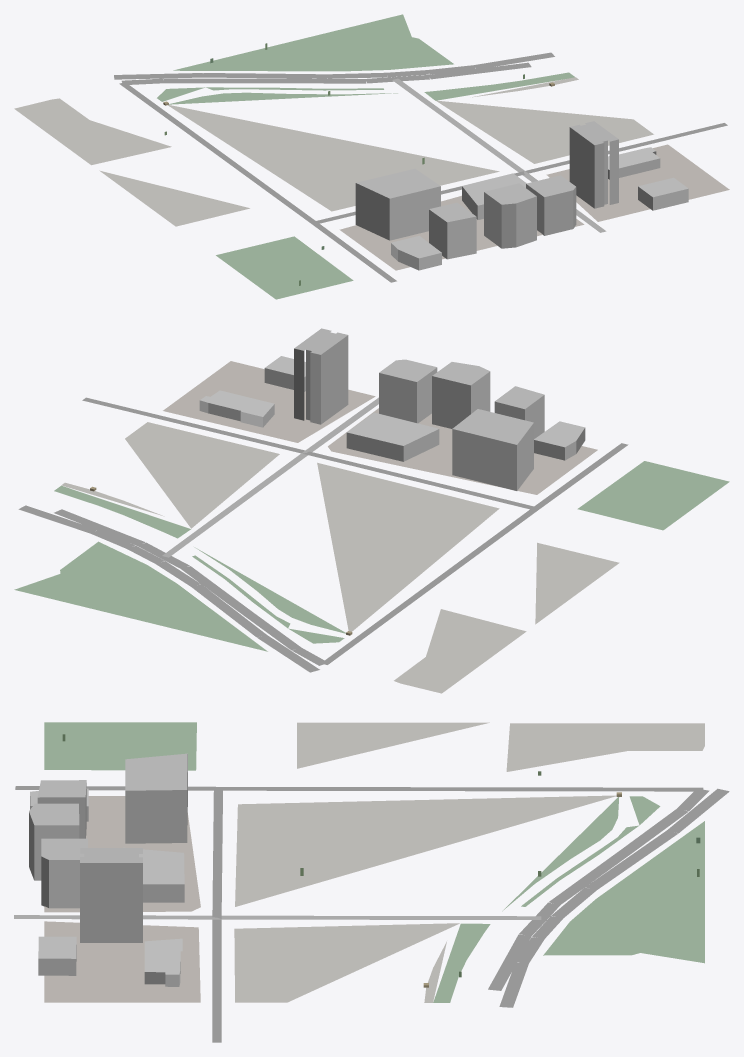
3 renders of one model, top to bottom at view 1: azimuth 30°, elevation 25°; view 2: azimuth 150°, elevation 25°; view 3: azimuth 270°, elevation 25°, orthographic. The views are drawn at different scales.
Bounding box in the file's own units: 571 × 67.62 × 542.
